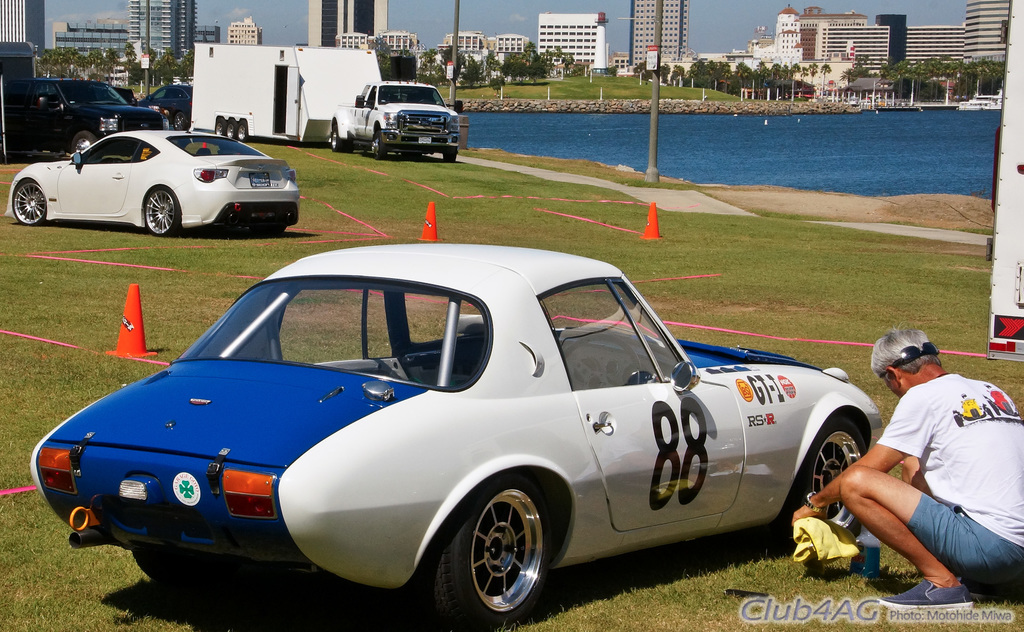mobil: (54, 241, 885, 587)
